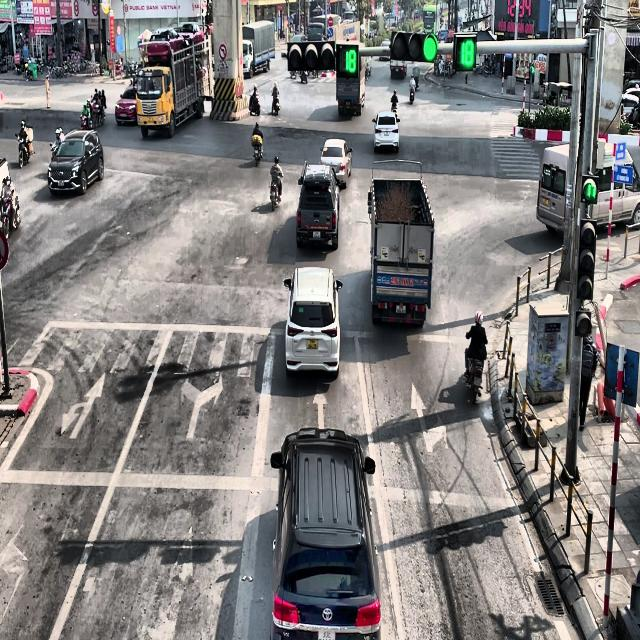lisence_plate: (317, 626, 336, 639), (306, 338, 318, 350), (394, 303, 406, 315), (310, 230, 322, 240)
